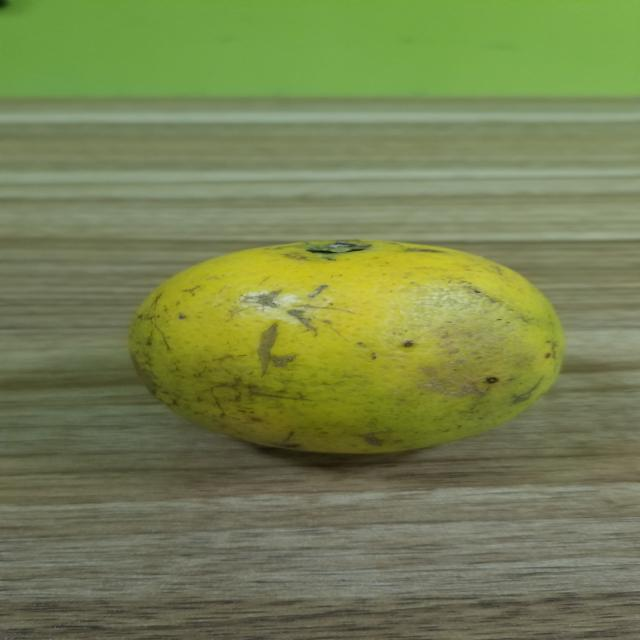Ripe orange: (124, 230, 585, 465)
